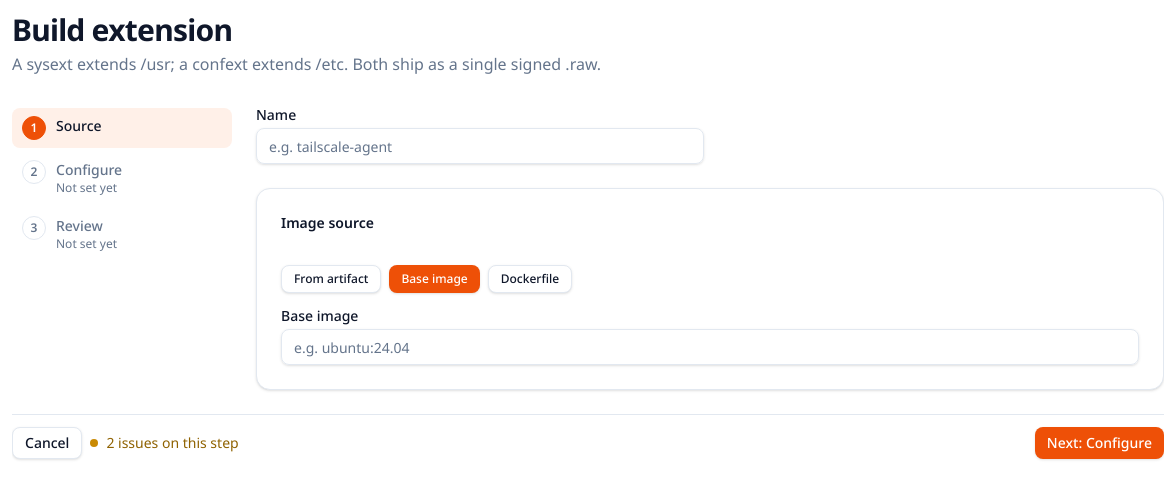
Test: ExtensionBuilder wizard › requires a name on Source and stays on the step
Type "ubuntu:24.04" into the field labelled "Base image" at (710,347), box [281,329,1139,365]
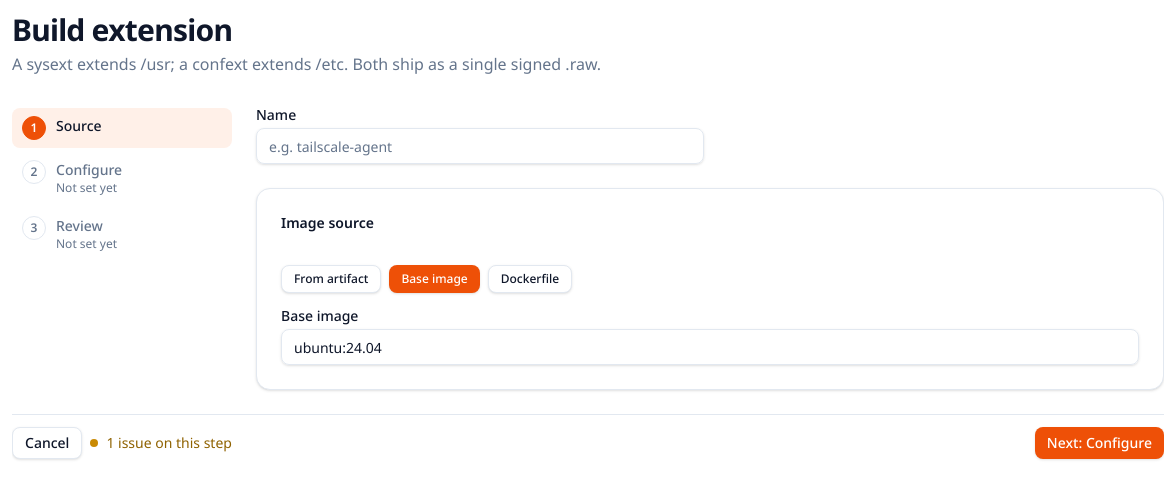
Click the button "Next: Configure" at (1099,443), box [1035,427,1164,459]
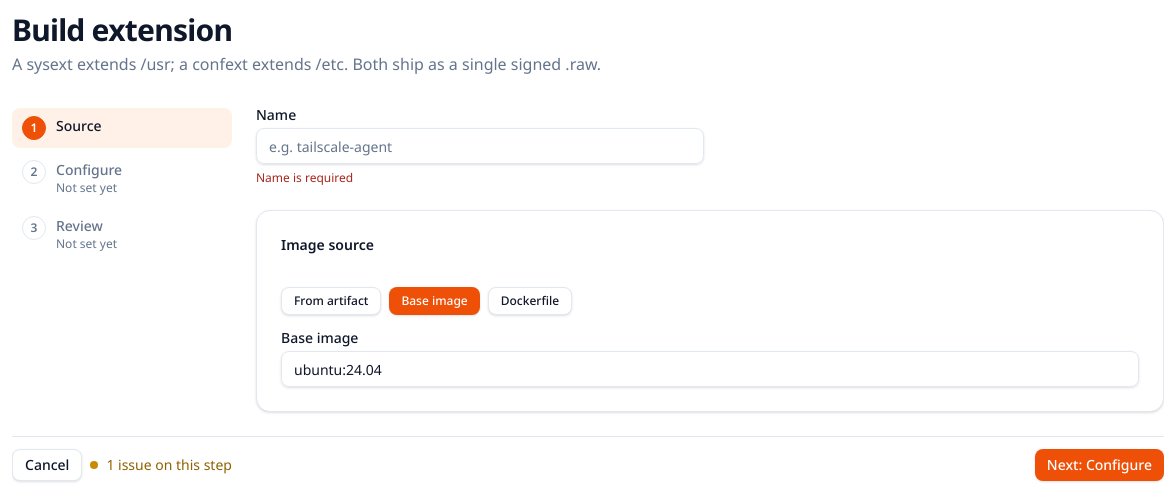
Expected: the field labelled "Name" is shown, [256,128,704,164]
Result: the text "Name is required" is shown at [256,169,353,186]
